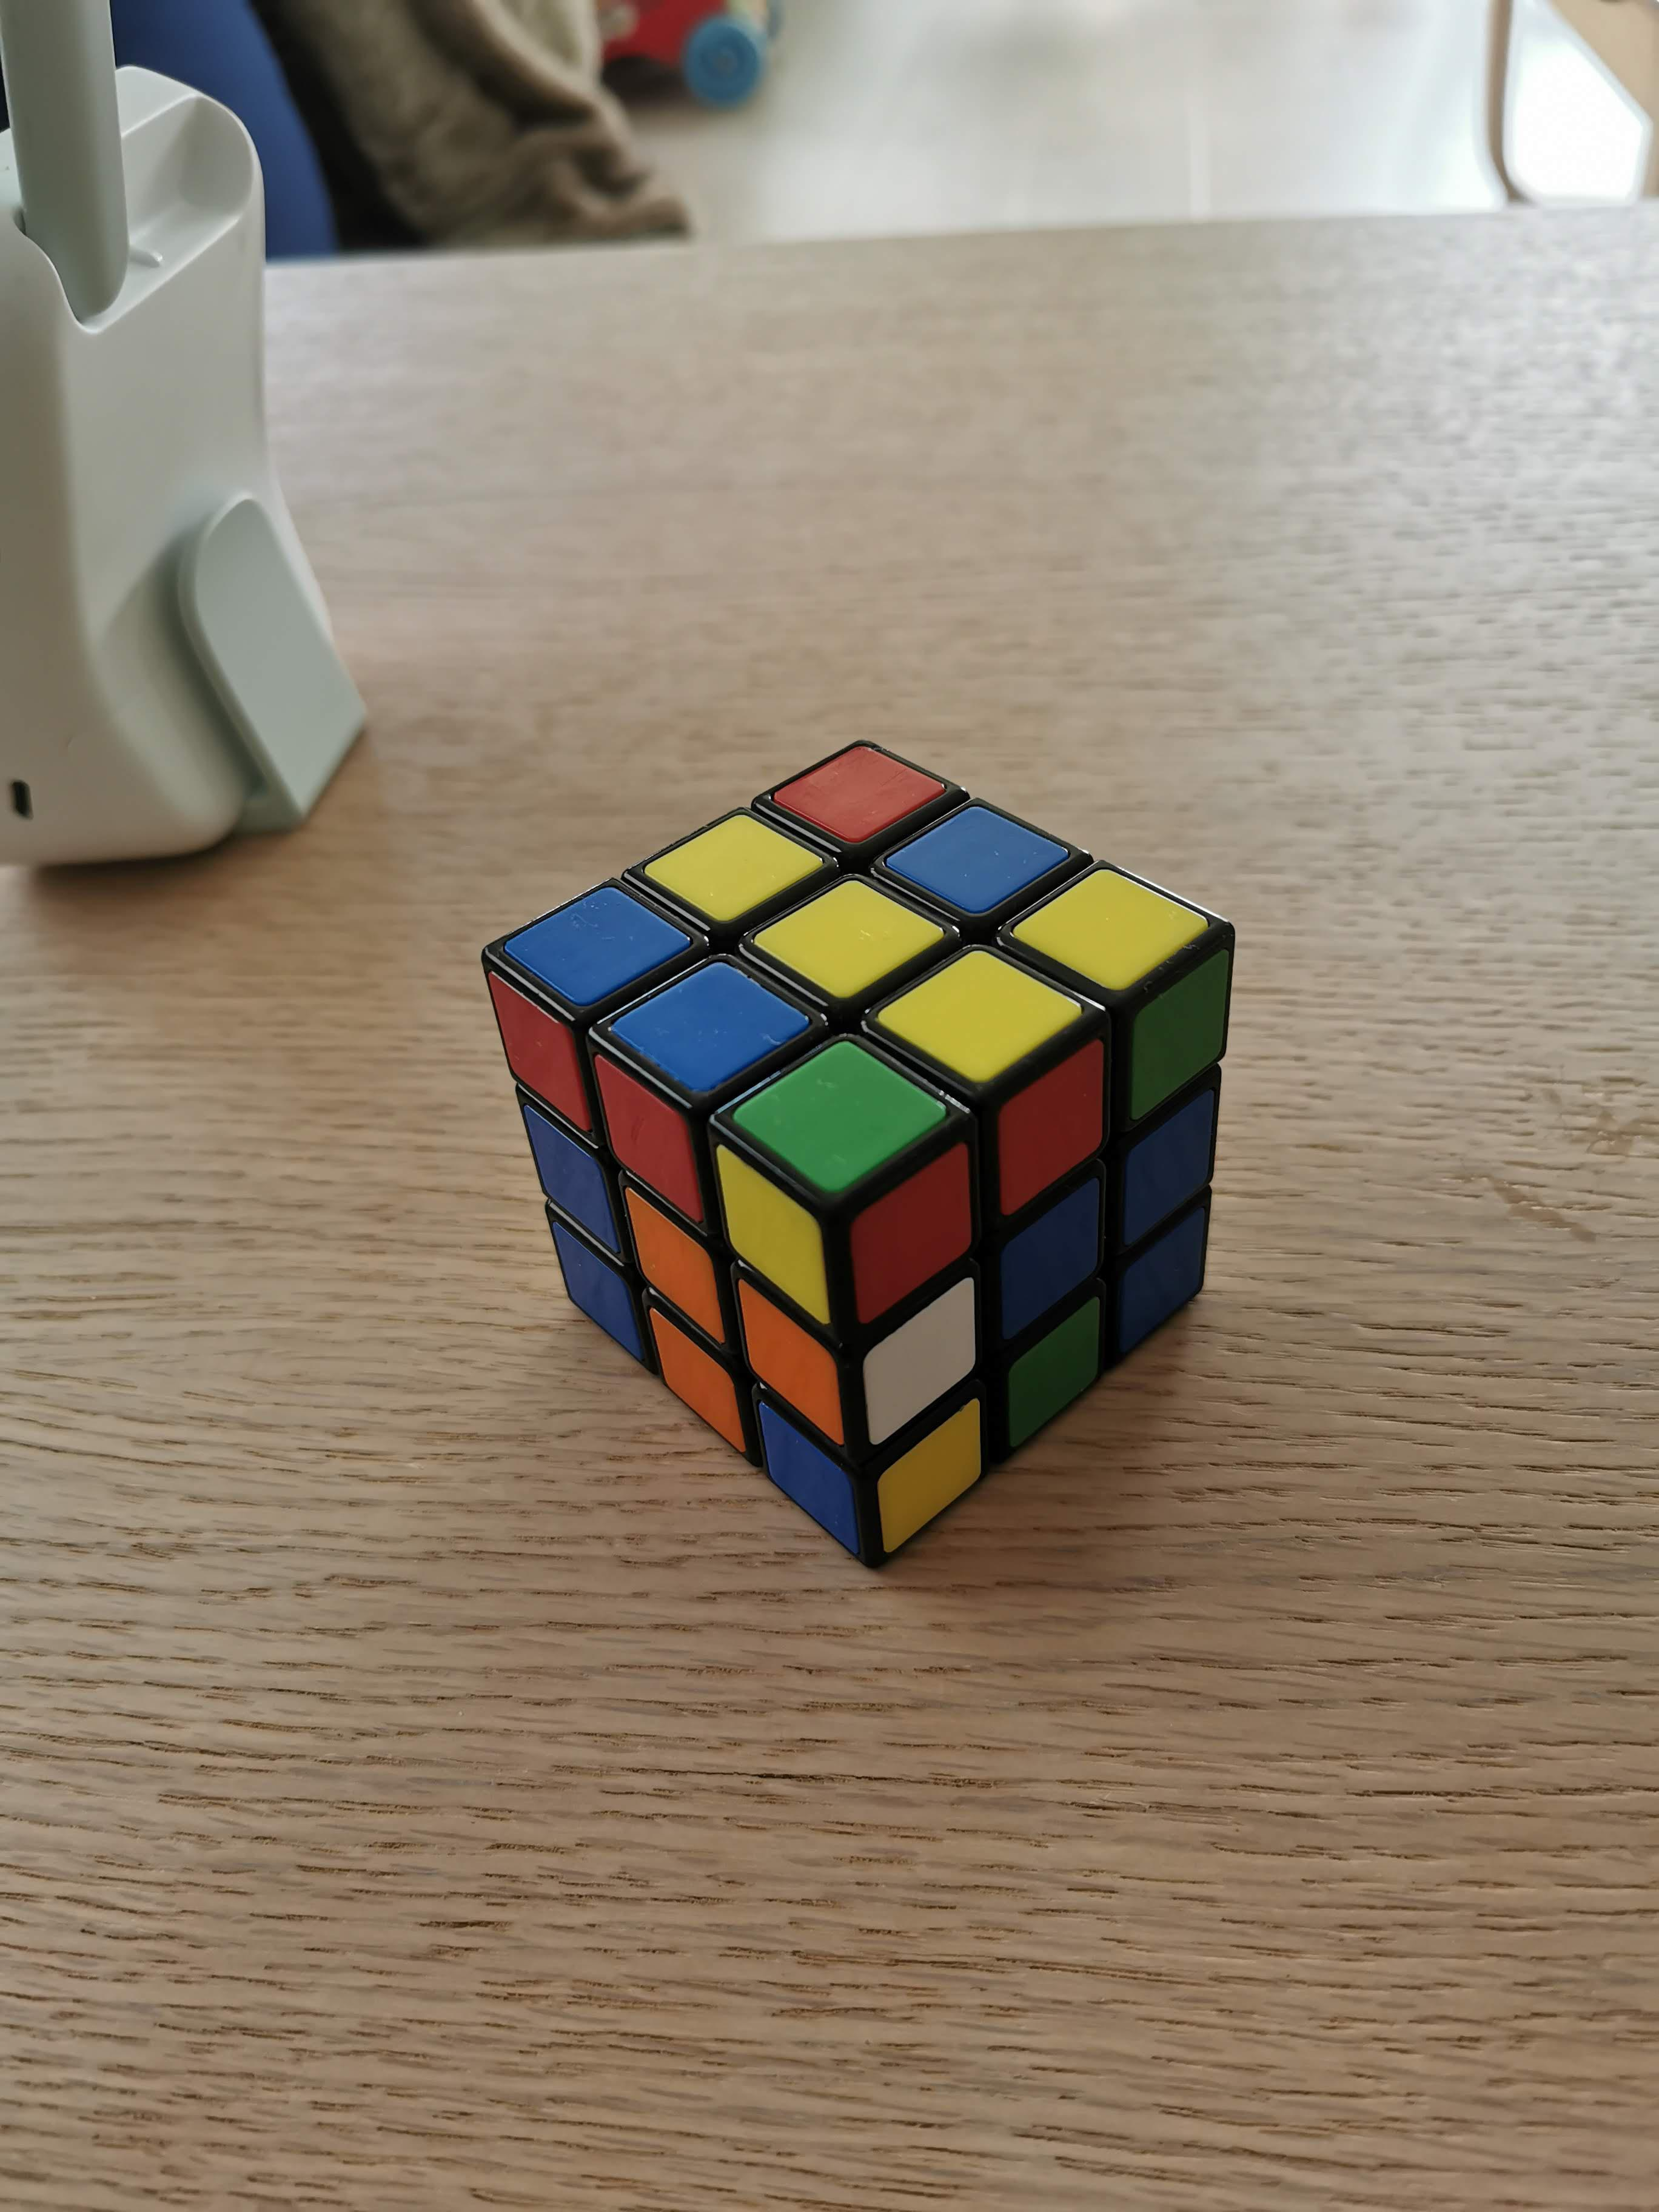cube: (476, 742, 1236, 1573)
